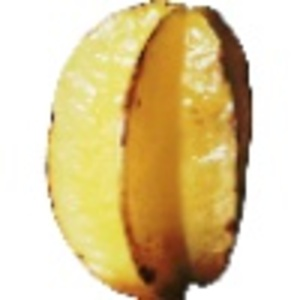carambola: (43, 1, 255, 300)
